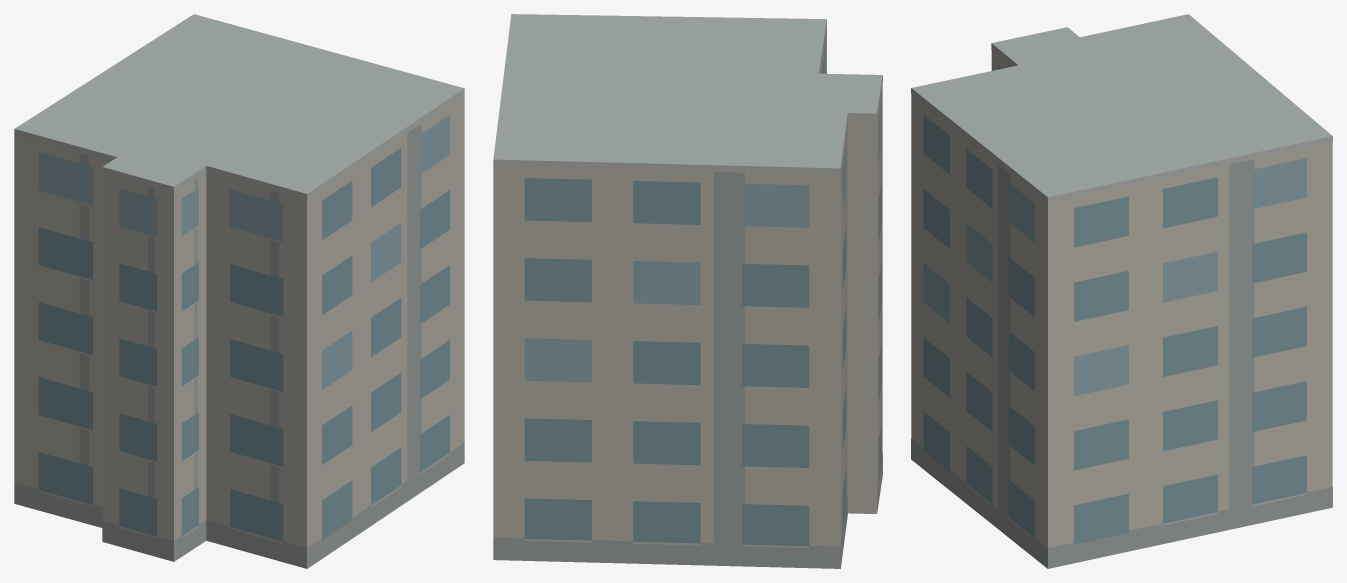
The model's file is survey-upis-32882805.glb.
The picture shows the model from 3 angles, left to right: view 1: azimuth 30°, elevation 25°; view 2: azimuth 150°, elevation 25°; view 3: azimuth 270°, elevation 25°; orthographic projection. The views are drawn at different scales.
Parts seen in each view (by area): view 1: survey-upis-32882805.tmp; view 2: survey-upis-32882805.tmp; view 3: survey-upis-32882805.tmp.
Boxes of the visible parts, x1,y1,x2,y2 form: survey-upis-32882805.tmp: [14, 14, 464, 568]; survey-upis-32882805.tmp: [493, 14, 882, 568]; survey-upis-32882805.tmp: [911, 14, 1332, 568].
Size of the model in its own units: 15.15 by 14.3 by 14.72.
